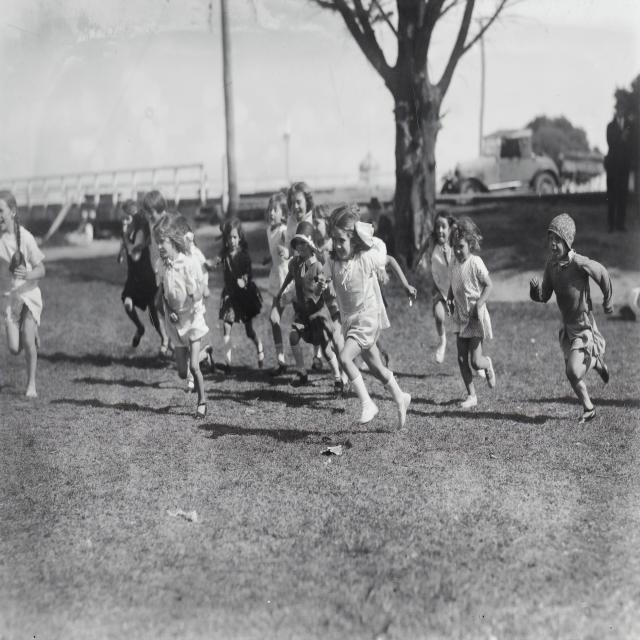adult: (319, 208, 416, 418), (530, 214, 614, 421), (153, 209, 208, 420), (275, 219, 342, 389), (444, 217, 498, 407), (0, 188, 47, 400), (218, 218, 267, 369), (118, 196, 166, 348), (413, 214, 457, 360), (266, 190, 298, 370), (137, 193, 170, 349), (277, 184, 328, 260)
